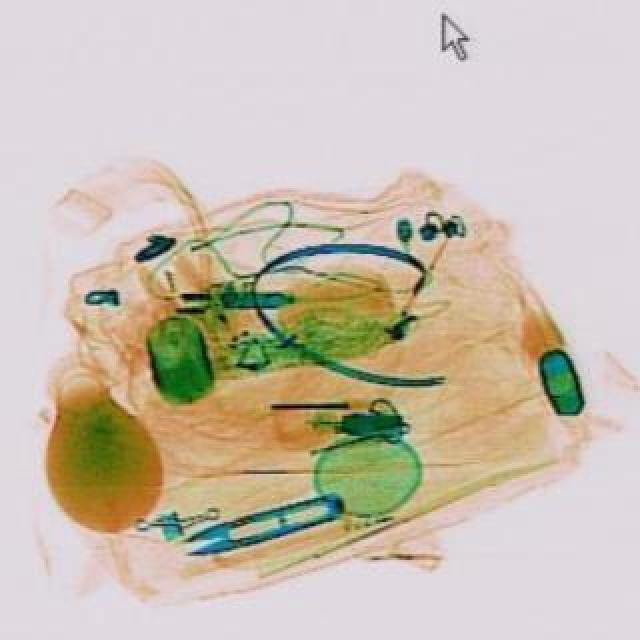pliers: (174, 480, 346, 564)
